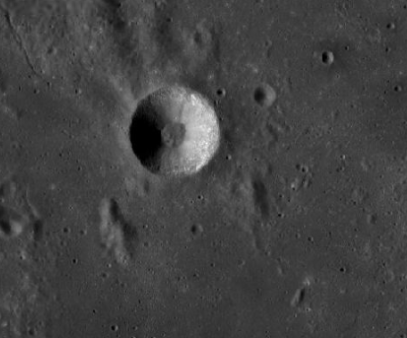crater: (100, 76, 235, 234), (291, 26, 343, 100)
